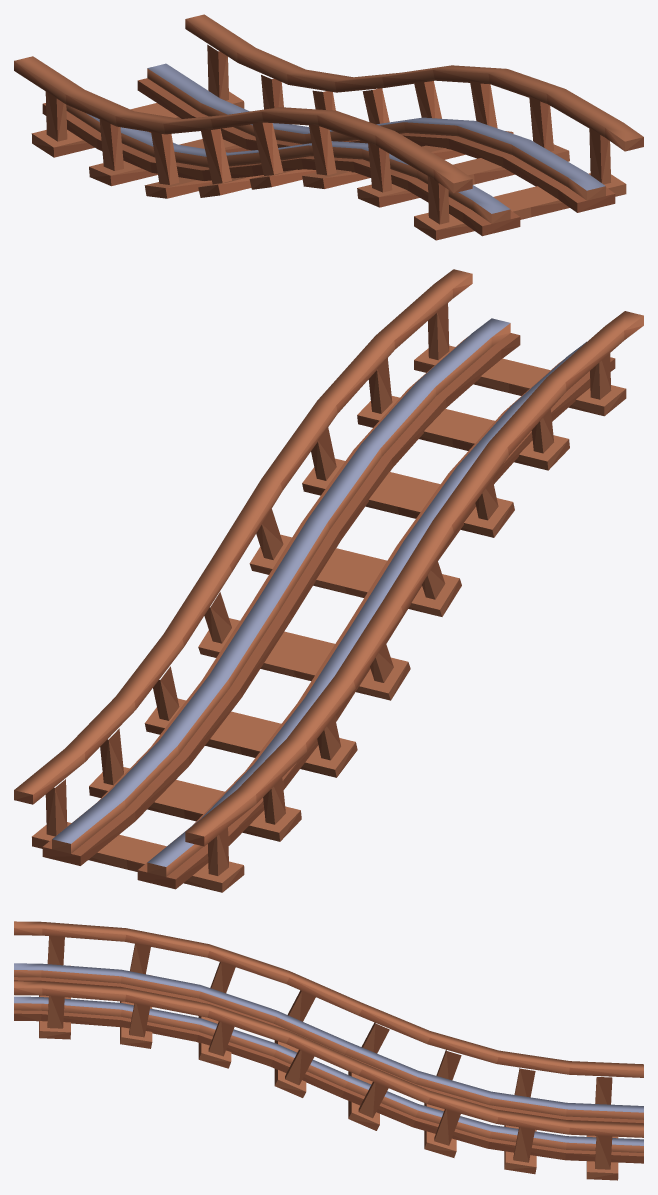
File: coaster_coaster_wood_straight_hill_complete.glb
3 renders of one model, top to bottom at view 1: azimuth 30°, elevation 25°; view 2: azimuth 150°, elevation 25°; view 3: azimuth 270°, elevation 25°, orthographic. The views are drawn at different scales.
Visible parts, largest first — view 1: coaster_coaster_wood_straight_hill_complete; view 2: coaster_coaster_wood_straight_hill_complete; view 3: coaster_coaster_wood_straight_hill_complete.
Boxes of the visible parts, box(x1,y1,x2,y2) form: coaster_coaster_wood_straight_hill_complete: box(14, 14, 643, 240); coaster_coaster_wood_straight_hill_complete: box(14, 269, 643, 892); coaster_coaster_wood_straight_hill_complete: box(14, 921, 643, 1180).
Bounding box in the file's own units: 1 × 1.35 × 4.
